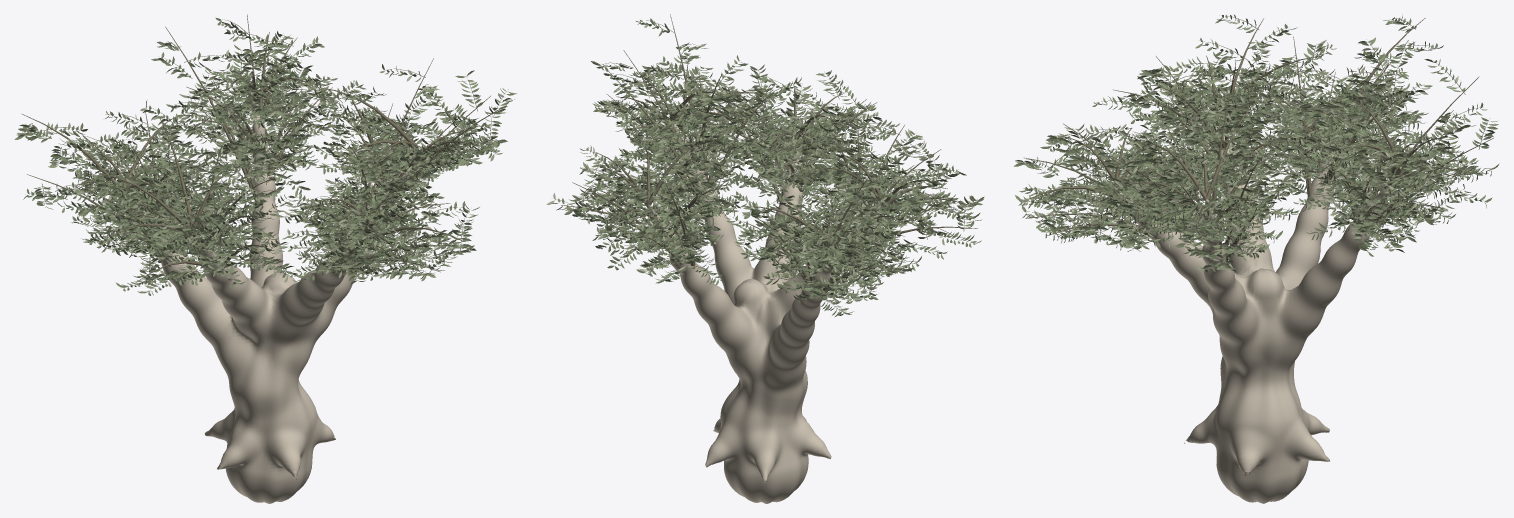
File: olea-europaea.glb
3 views of the same model, side by side, from view 1: azimuth 30°, elevation 25°; view 2: azimuth 150°, elevation 25°; view 3: azimuth 270°, elevation 25° (orthographic). The views are drawn at different scales.
Visible parts, largest first — view 1: olea-europaea; view 2: olea-europaea; view 3: olea-europaea.
Part boxes in pixels (x1,y1,x2,y2): olea-europaea: [14, 14, 517, 503]; olea-europaea: [546, 14, 984, 503]; olea-europaea: [1013, 14, 1499, 503].
Size of the model in its own units: 3.65 by 3.61 by 3.61.
